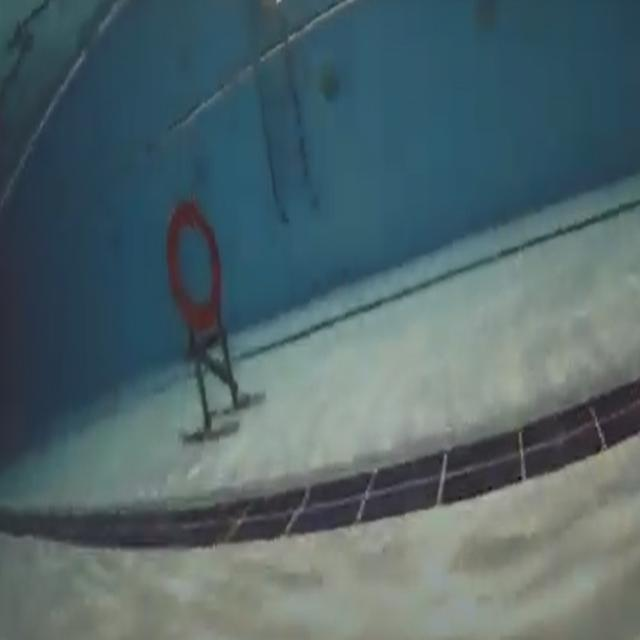Circle: (164, 189, 224, 328)
